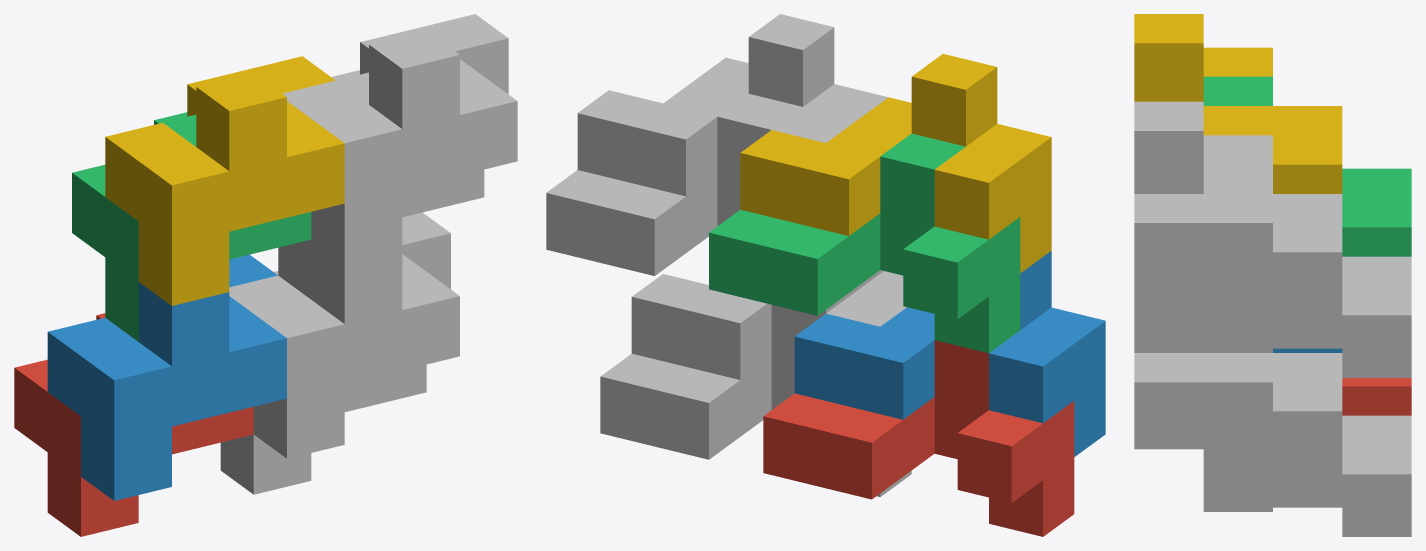
Rendered from tiling.obj.
The picture shows the model from 3 angles, left to right: view 1: azimuth 30°, elevation 25°; view 2: azimuth 150°, elevation 25°; view 3: azimuth 270°, elevation 25°; orthographic projection. The views are drawn at different scales.
Parts seen in each view (by area): view 1: copy_1_domain_4, copy_1_domain_8, copy_1_domain_2, copy_1_domain_6, copy_1_domain_1, copy_1_domain_3, copy_1_domain_5, copy_1_domain_7; view 2: copy_1_domain_4, copy_1_domain_3, copy_1_domain_1, copy_1_domain_2, copy_1_domain_8, copy_1_domain_7, copy_1_domain_5, copy_1_domain_6; view 3: copy_1_domain_8, copy_1_domain_6, copy_1_domain_7, copy_1_domain_4, copy_1_domain_5, copy_1_domain_3, copy_1_domain_1, copy_1_domain_2.
Boxes of the visible parts, box(x1,y1,x2,y2) form: copy_1_domain_4: box(105, 56, 344, 305); copy_1_domain_8: box(282, 14, 517, 263); copy_1_domain_2: box(47, 254, 286, 500); copy_1_domain_6: box(229, 212, 459, 458); copy_1_domain_1: box(14, 313, 253, 536); copy_1_domain_3: box(72, 112, 311, 341); copy_1_domain_5: box(220, 271, 426, 494); copy_1_domain_7: box(278, 70, 484, 299); copy_1_domain_4: box(740, 54, 1051, 272); copy_1_domain_3: box(709, 133, 1020, 353); copy_1_domain_1: box(763, 340, 1074, 536); copy_1_domain_2: box(794, 251, 1105, 456); copy_1_domain_8: box(577, 14, 887, 196); copy_1_domain_7: box(546, 94, 857, 313); copy_1_domain_5: box(600, 305, 911, 496); copy_1_domain_6: box(631, 270, 906, 379); copy_1_domain_8: box(1134, 101, 1342, 315); copy_1_domain_6: box(1134, 290, 1342, 474); copy_1_domain_7: box(1203, 164, 1411, 377); copy_1_domain_4: box(1134, 14, 1342, 193); copy_1_domain_5: box(1203, 415, 1411, 536); copy_1_domain_3: box(1203, 76, 1411, 256); copy_1_domain_1: box(1342, 378, 1411, 415); copy_1_domain_2: box(1273, 348, 1342, 352).
Size of the model in its own units: 8 by 7 by 4.
